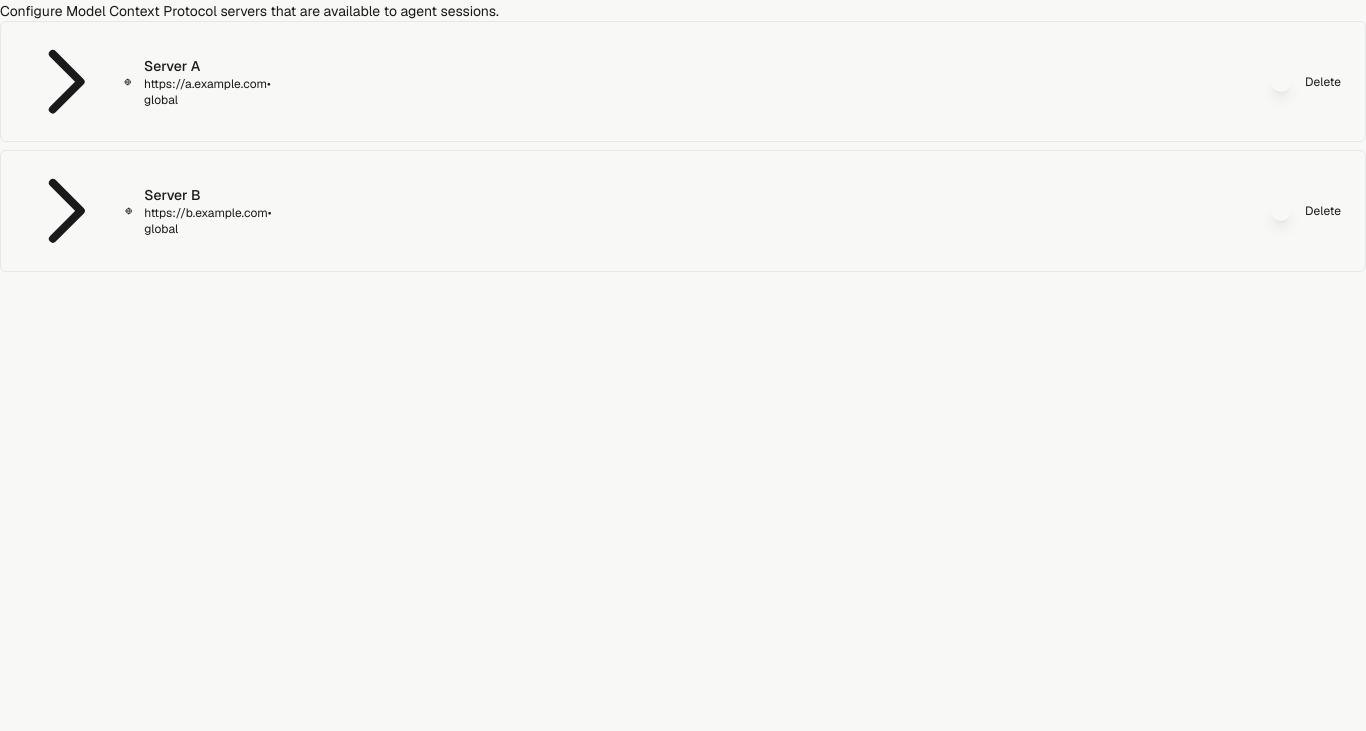
Test: McpServersSettings › keeps all tools dynamic until the first deselection
Click the button "Server A https://a.example.com• global": (119, 82) [17,34,221,129]
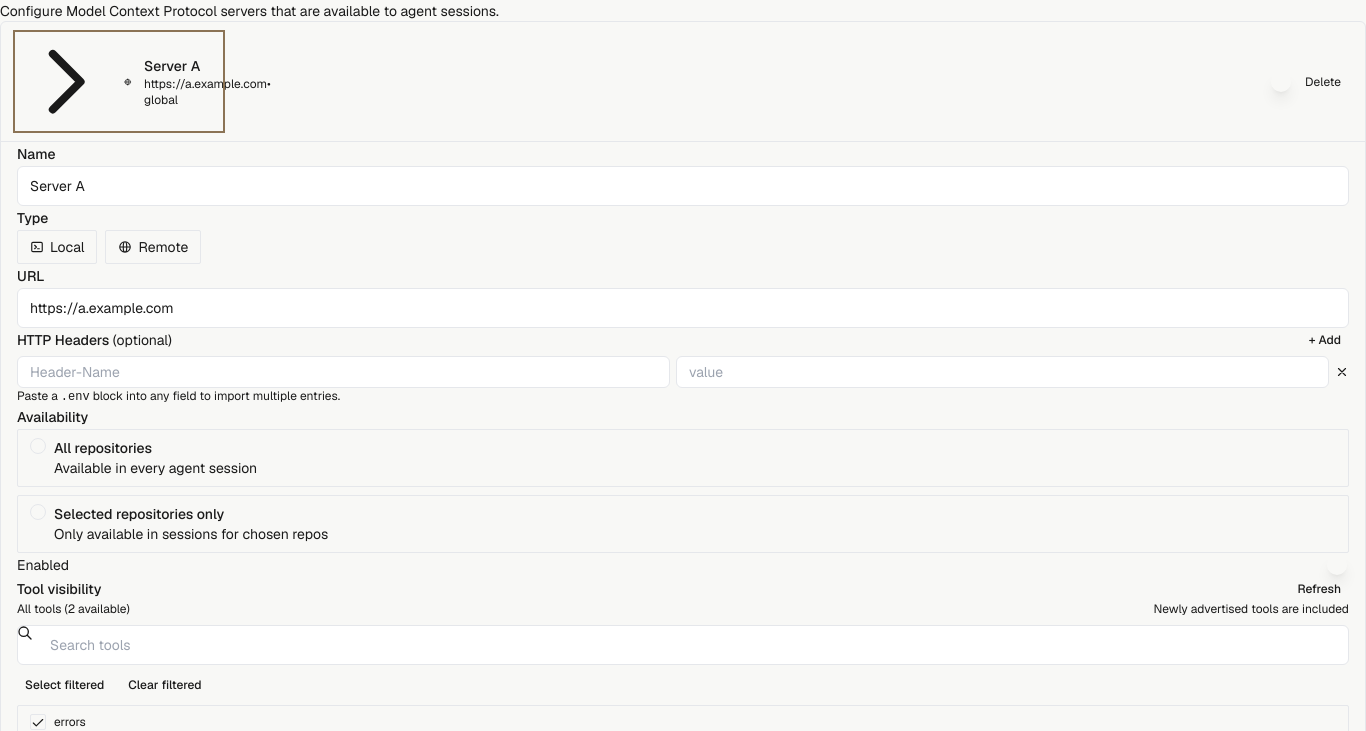
expect the text "All tools (2 available)" is shown: met, box [17,601,130,617]
expect the checkbox named "errors" is checked: met, box [30,714,46,730]
Click the button "Refresh": (1319, 589) [1289,577,1349,601]
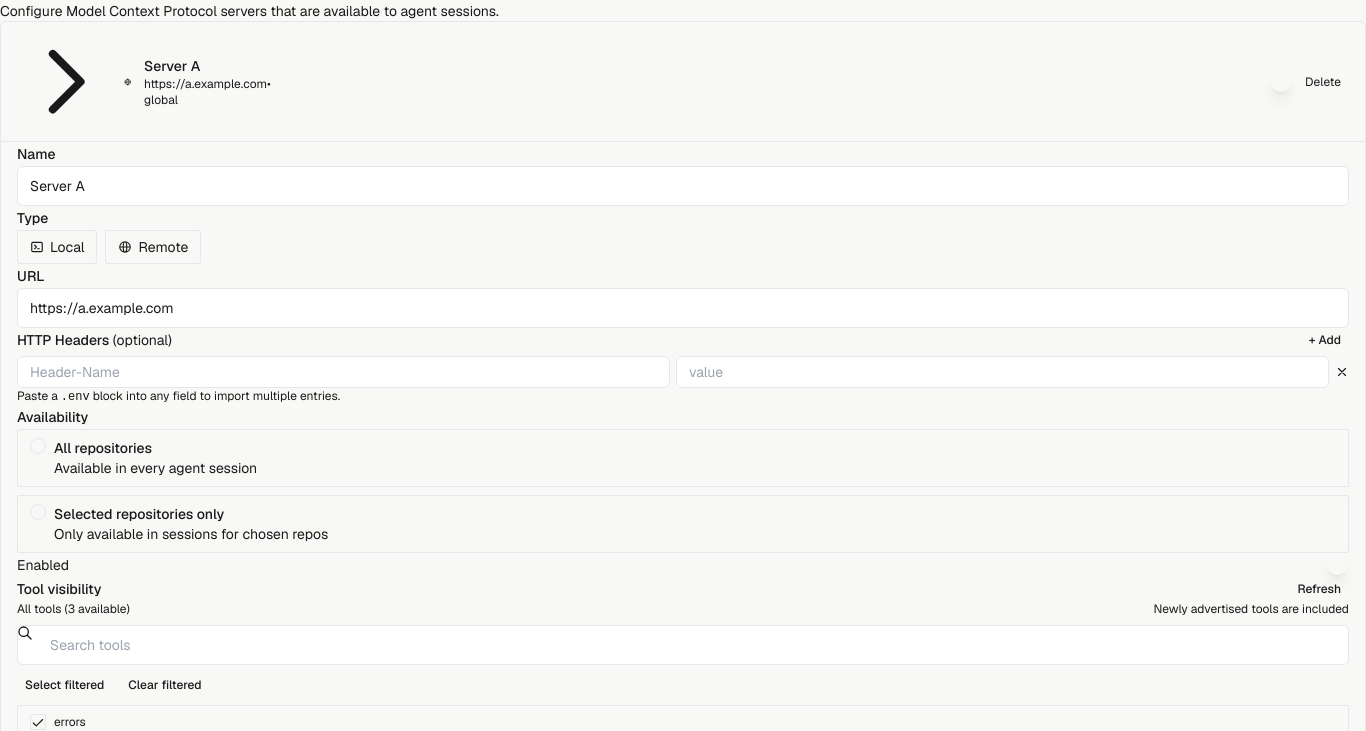
expect the text "All tools (3 available)" is shown: met, box [17,601,130,617]
Click the checkbox named "errors": (38, 722) [30,714,46,730]
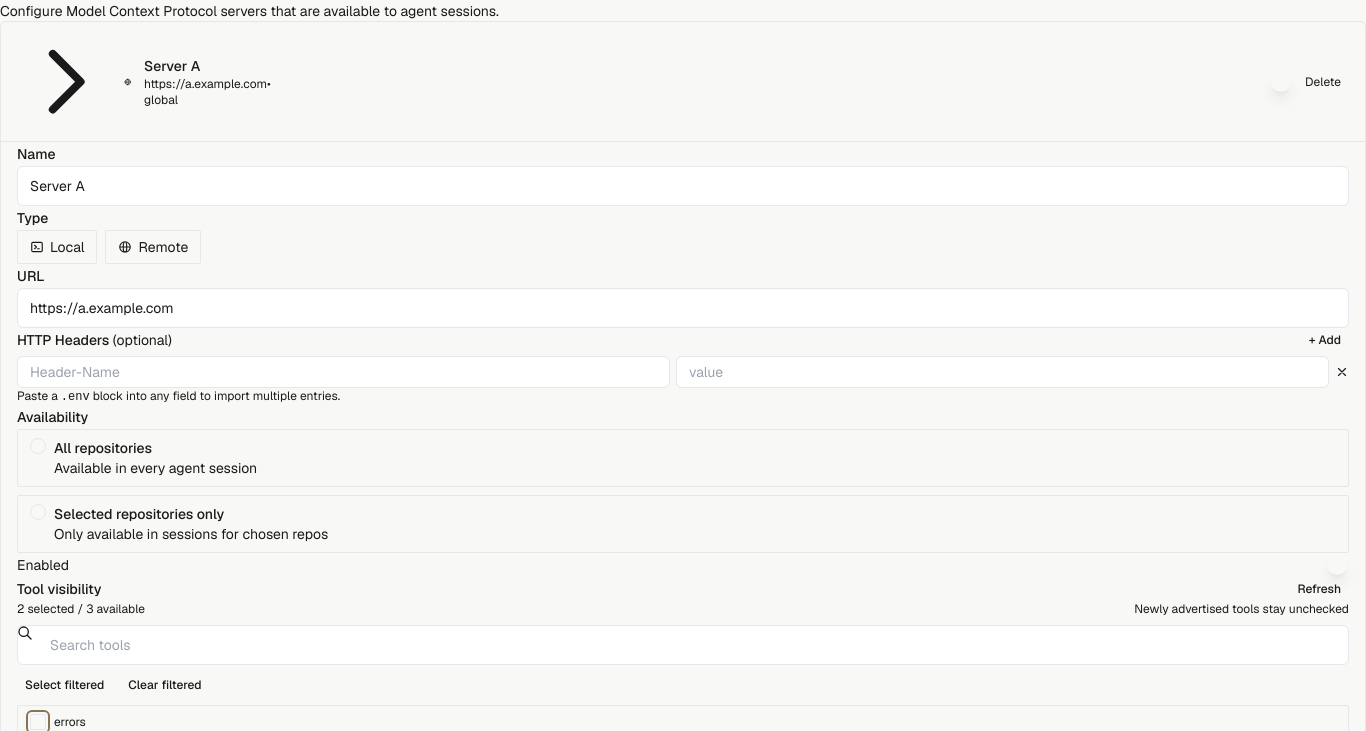
Click the button "Refresh": (1319, 589) [1289,577,1349,601]
(page scrolled)
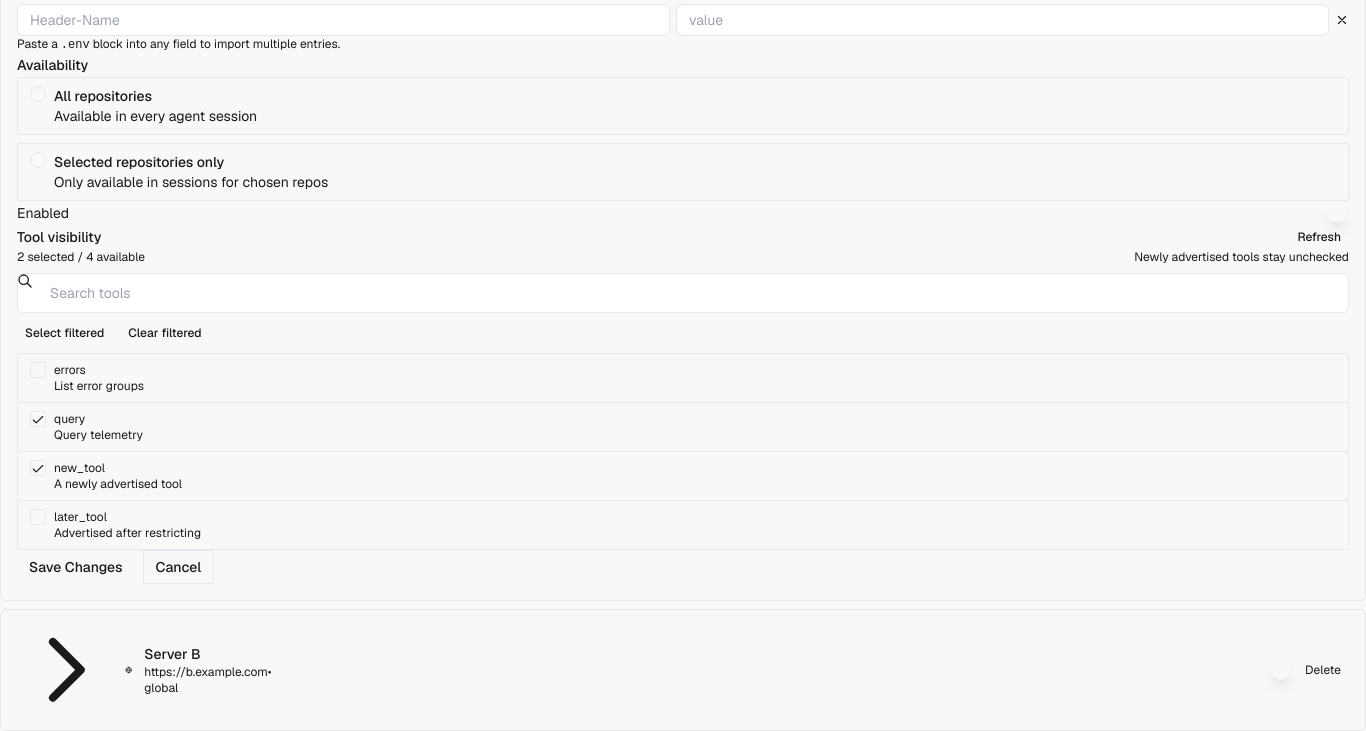
expect the 2nd checkbox named "query" is checked: met, box [30,411,46,427]
expect the checkbox named "new_tool" next to "new_tool" is checked: met, box [30,460,46,476]
expect the text "2 selected / 4 available" is shown: met, box [17,249,145,265]
